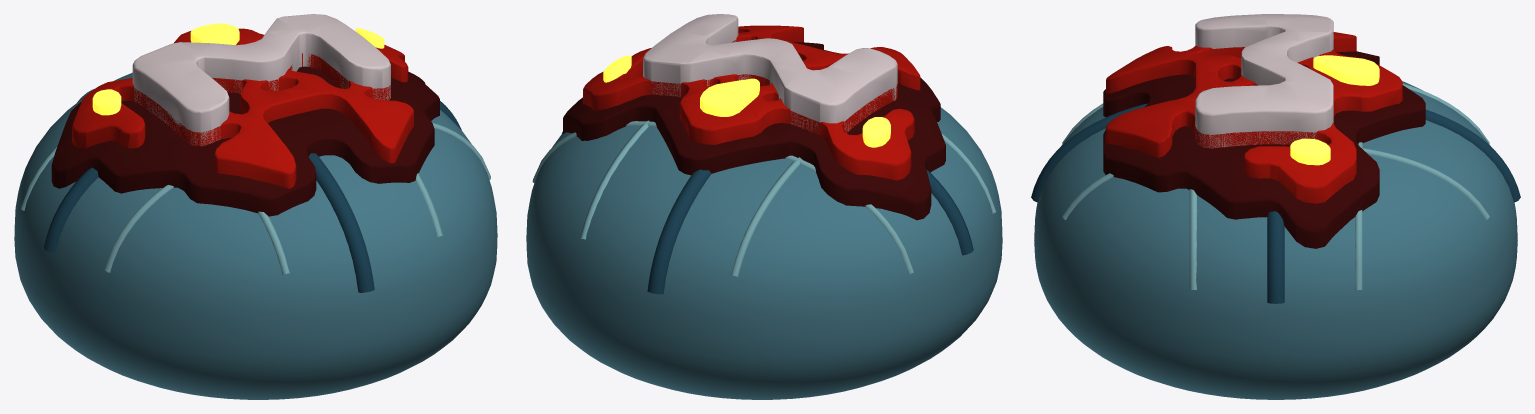
Rendered from pu_multi_cannon.glb.
The picture shows the model from 3 angles, left to right: view 1: azimuth 30°, elevation 25°; view 2: azimuth 150°, elevation 25°; view 3: azimuth 270°, elevation 25°; orthographic projection.
Parts seen in each view (by area): view 1: orb, badge, badge_red, letter, orb_groove_13, orb_seam_13, badge_glow; view 2: orb, badge, badge_red, letter, orb_seam_13, orb_groove_13, badge_glow; view 3: orb, badge, badge_red, letter, orb_groove_13, orb_seam_13, badge_glow.
Part boxes in pixels (<box>): orb: <box>14,72,497,399</box>; badge: <box>51,66,439,216</box>; badge_red: <box>72,28,413,188</box>; letter: <box>132,14,390,145</box>; orb_groove_13: <box>44,101,461,292</box>; orb_seam_13: <box>21,88,490,274</box>; badge_glow: <box>92,23,384,115</box>; orb: <box>526,107,1002,399</box>; badge: <box>563,42,945,220</box>; badge_red: <box>583,25,920,180</box>; letter: <box>643,14,897,133</box>; orb_seam_13: <box>532,120,996,276</box>; orb_groove_13: <box>562,131,973,294</box>; badge_glow: <box>603,55,890,147</box>; orb: <box>1034,81,1517,399</box>; badge: <box>1103,51,1425,248</box>; badge_red: <box>1106,32,1402,203</box>; letter: <box>1195,14,1333,148</box>; orb_groove_13: <box>1031,103,1520,303</box>; orb_seam_13: <box>1062,83,1489,289</box>; badge_glow: <box>1290,55,1379,165</box>.
Size of the model in its own units: 20.88 by 14.28 by 21.27.
